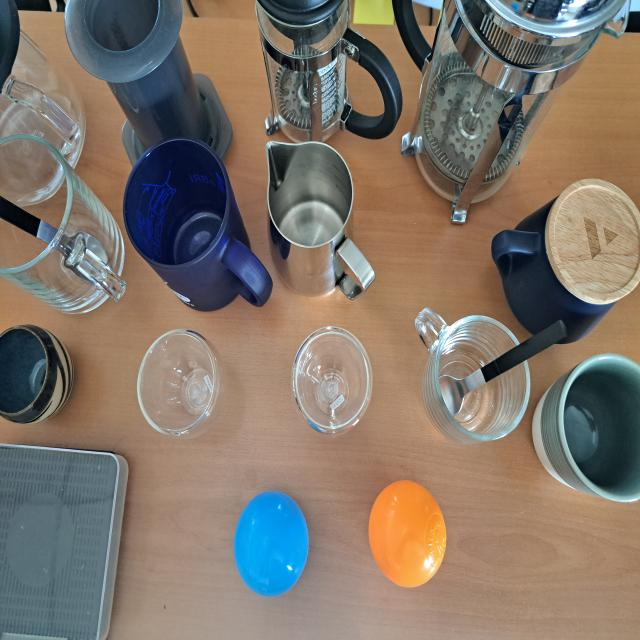blue: (231, 491, 311, 600)
orange: (368, 478, 447, 590)
